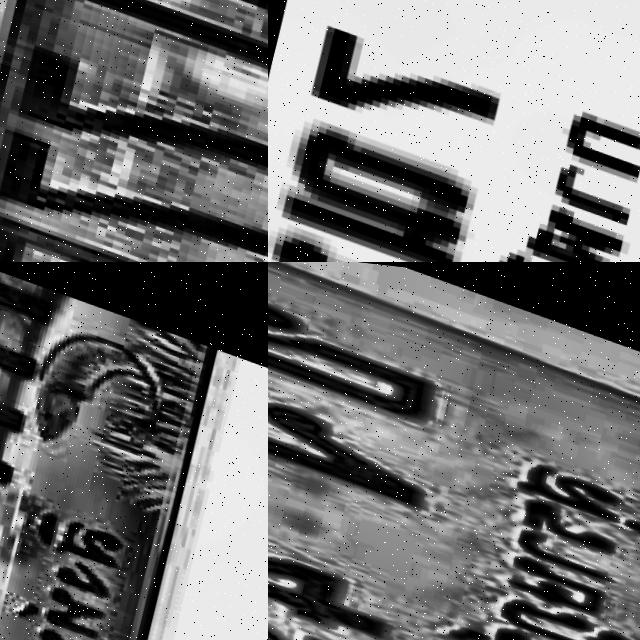license-plate: (268, 262, 640, 640), (268, 0, 640, 262), (0, 262, 217, 640), (0, 0, 268, 262)
